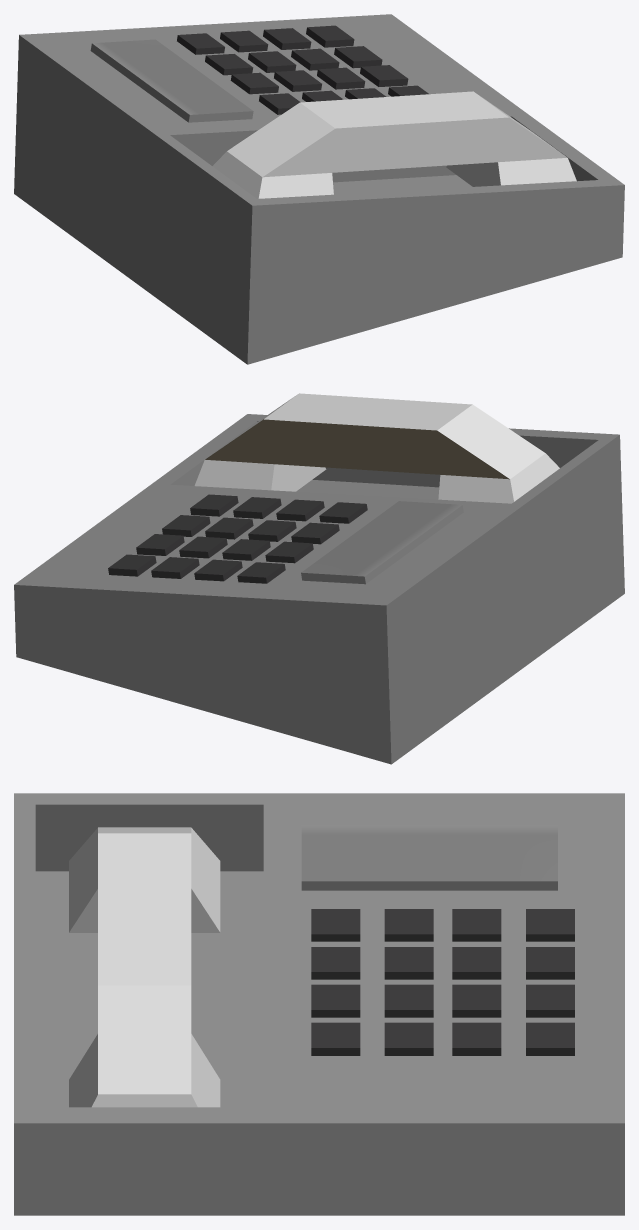
File: phoneversion2.fbx
The picture shows the model from 3 angles, top to bottom: view 1: azimuth 30°, elevation 25°; view 2: azimuth 150°, elevation 25°; view 3: azimuth 270°, elevation 25°; orthographic projection. The views are drawn at different scales.
Visible parts, largest first — view 1: Cube.004; view 2: Cube.004; view 3: Cube.004.
Part boxes in pixels (x1,y1,x2,y2): Cube.004: (14,14,624,364); Cube.004: (14,393,624,764); Cube.004: (14,793,624,1215).
Size of the model in its own units: 0.2334 by 0.1083 by 0.25.
